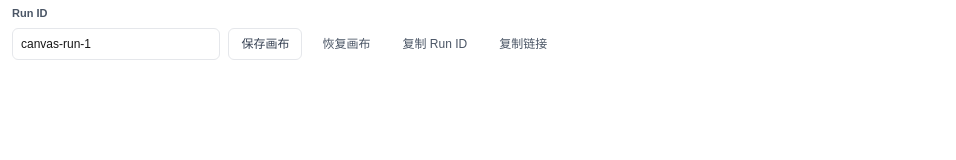
Test case: ProductionCanvasRunControls › shows the restore link when copy primitives are unavailable
The width and height of the screenshot is (956, 160).
What coordinates should you click on to do the following:
click the button "复制链接"
I would click on:
 (523, 44)
Its box is [487,28,559,60].
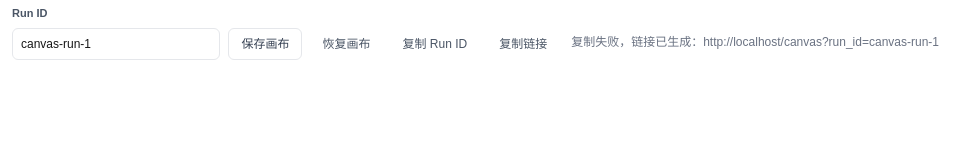
Expected: the text "复制失败，链接已生成：http://localhost/canvas?run_id=canvas-run-1" is shown, [571,35,939,49]
